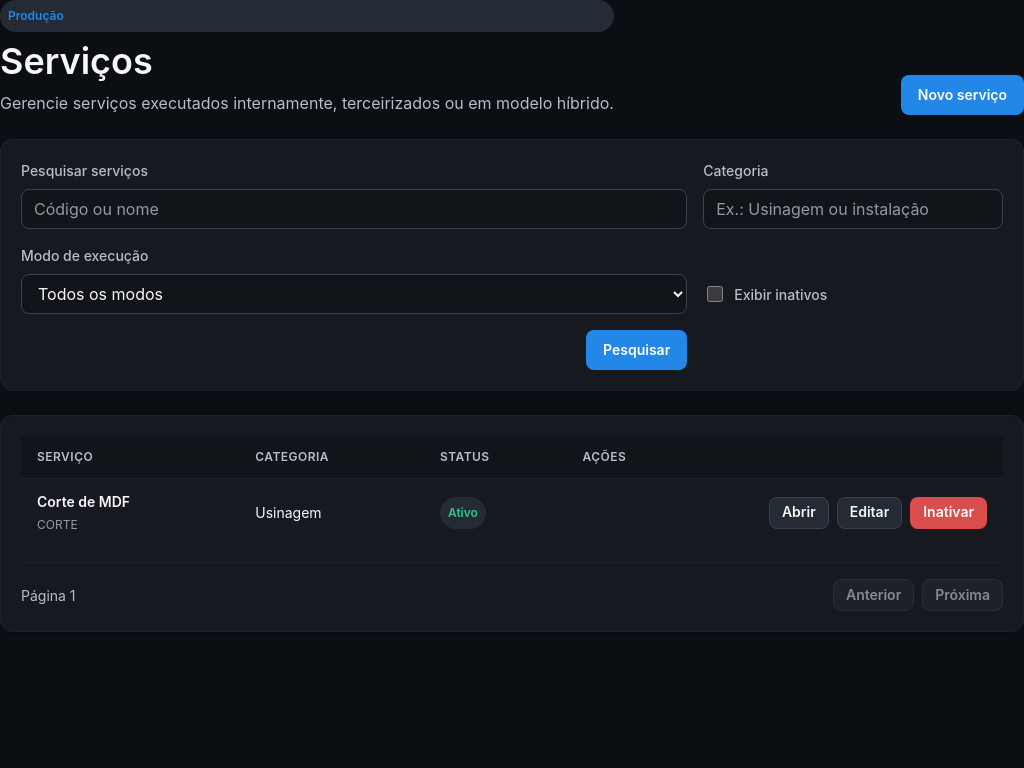
it: ServicesRoute › cadastra um serviço
Expected: the button "Corte de MDF" is shown, [37,491,130,512]
Click the button "Novo serviço" at (962, 95), box [901,75,1023,115]
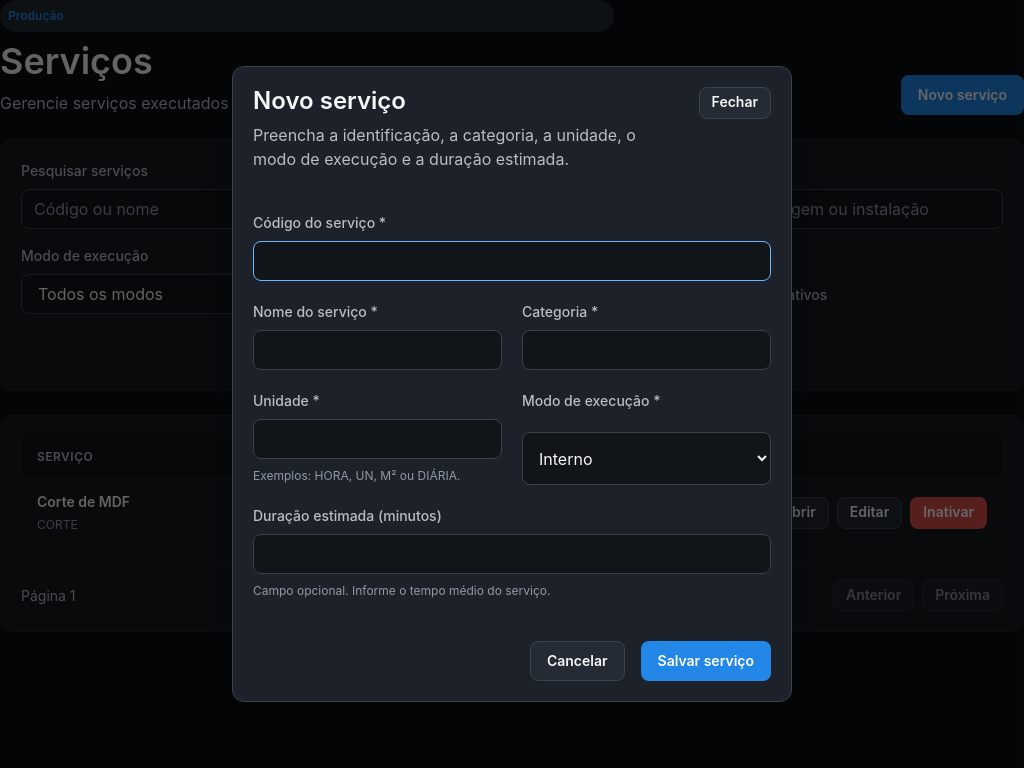
Type "instalacao" into the field labelled "Código do serviço *" at (512, 261), box [253,241,771,281]
Type "Instalação de móveis" into the field labelled "Nome do serviço *" at (378, 350), box [253,330,502,370]
Type "Montagem" into the field labelled "Categoria *" at (646, 350), box [522,330,771,370]
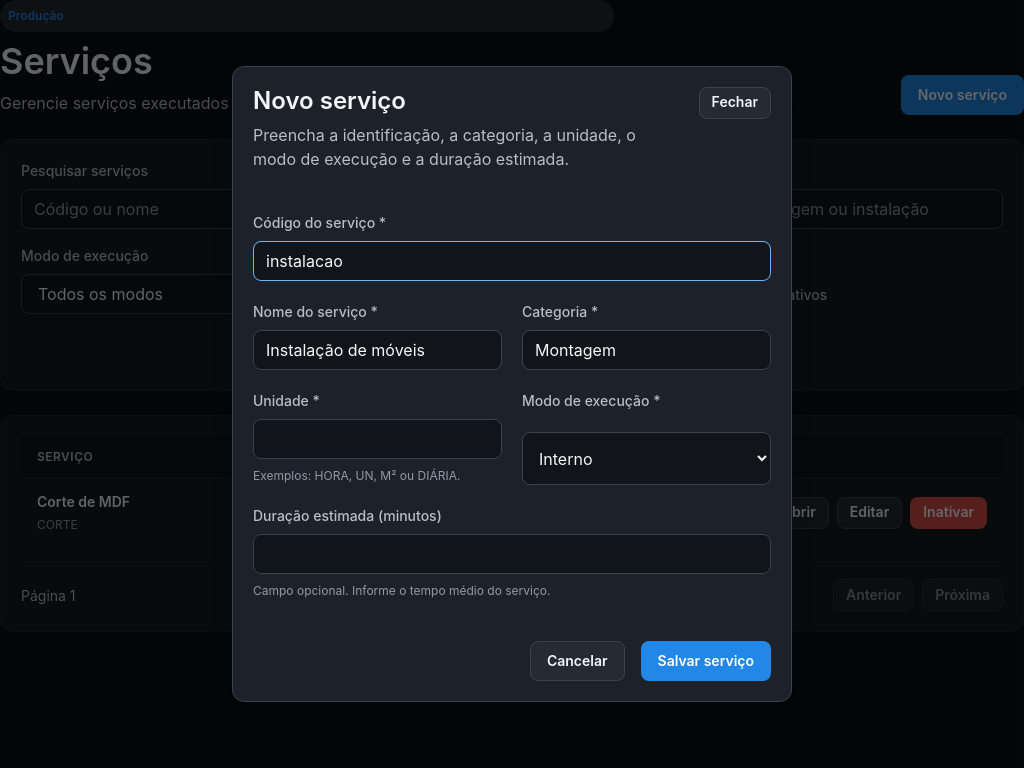
Type "diária" into the field labelled "Unidade *" at (378, 439), box [253,419,502,459]
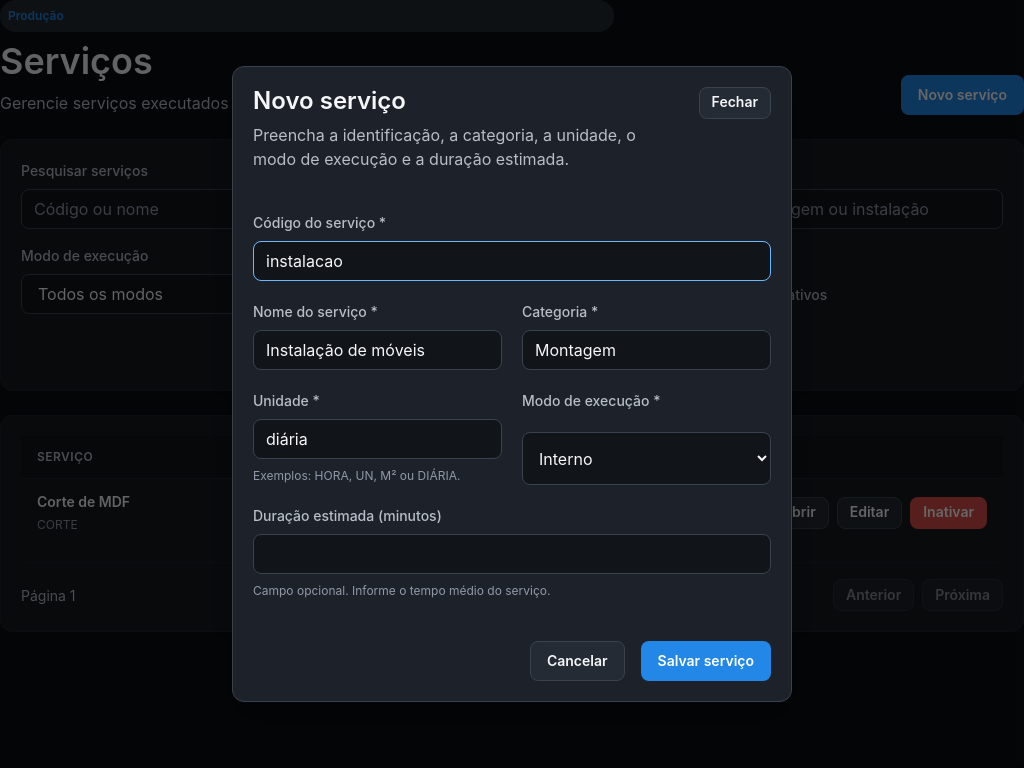
Select "Interno ou terceirizado" in the dropdown labelled "Modo de execução *" at (646, 459), box [522,432,771,485]
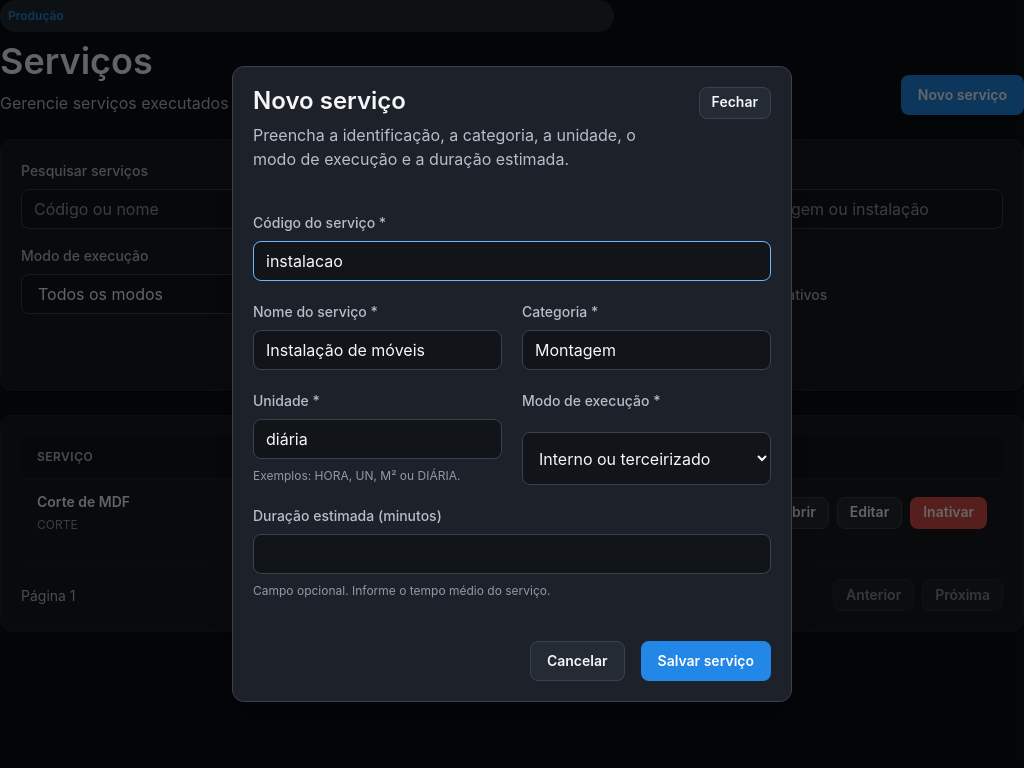
Type "480" into the number field labelled "Duração estimada (minutos)" at (512, 554), box [253,534,771,574]
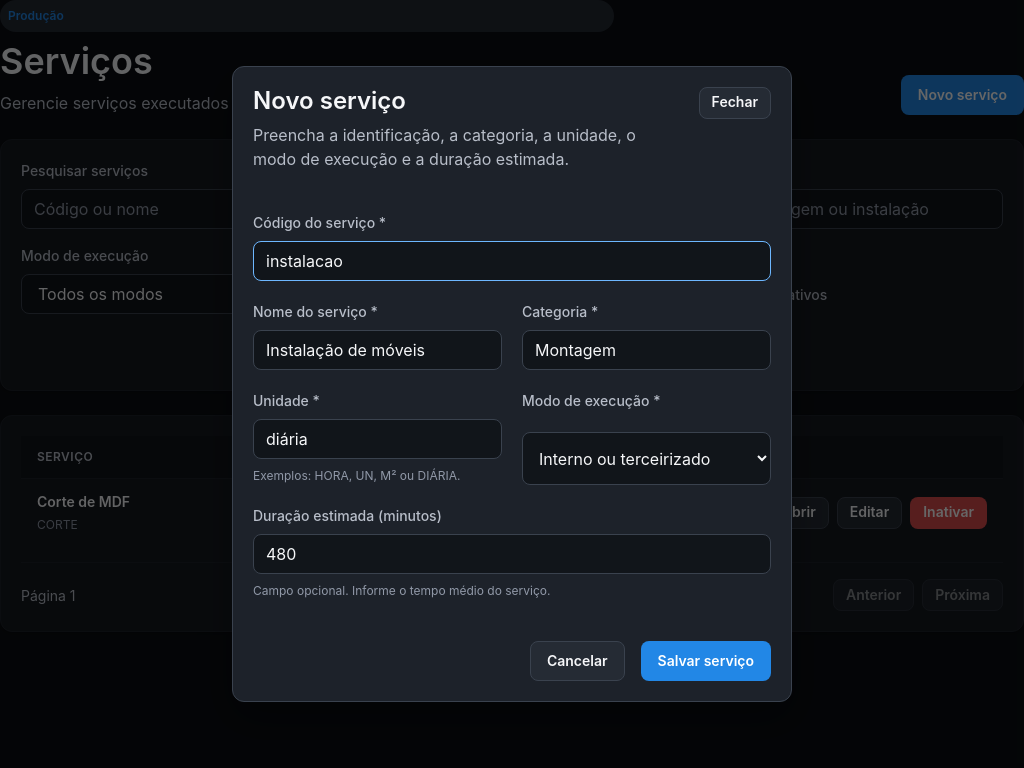
Click the button "Salvar serviço" at (706, 661), box [640,641,771,681]
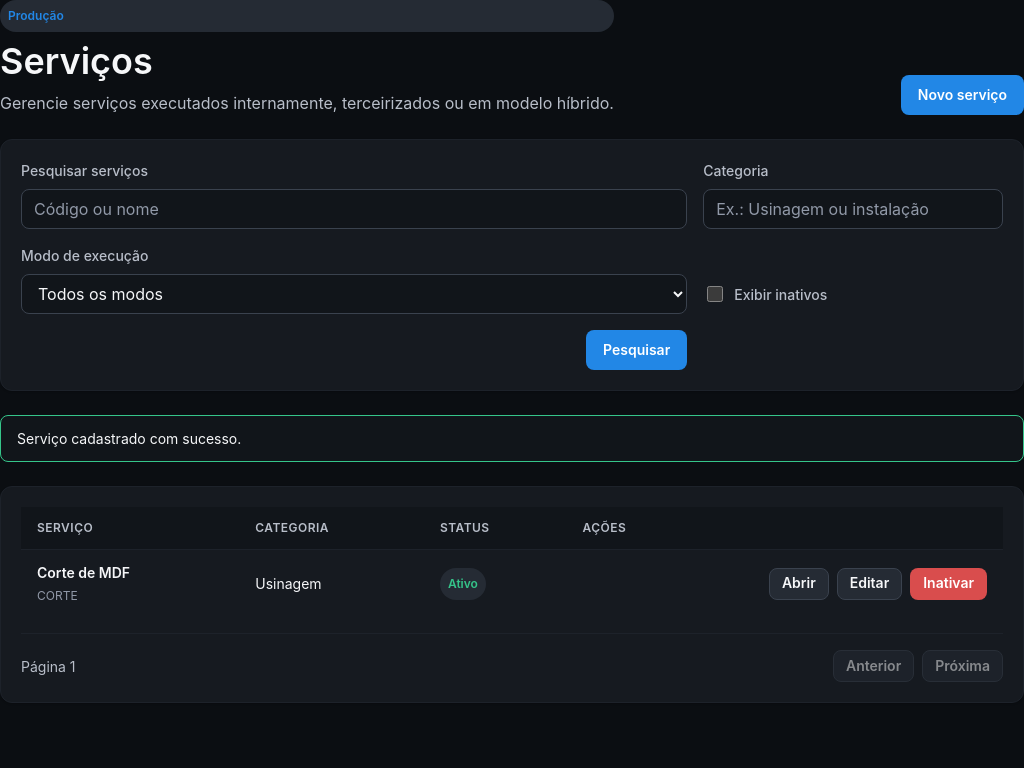
Expected: the text "Serviço cadastrado com sucesso." is shown, [0,415,1023,462]
